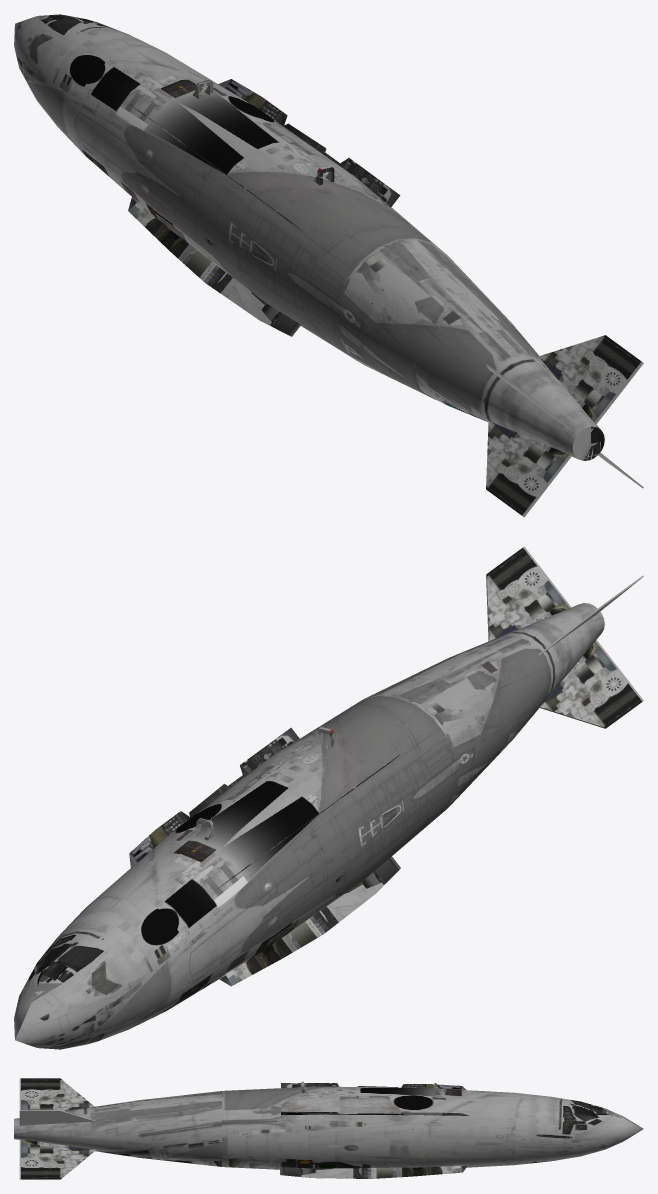
Rendered from JDAM.obj.
The picture shows the model from 3 angles, top to bottom: view 1: azimuth 30°, elevation 25°; view 2: azimuth 150°, elevation 25°; view 3: azimuth 270°, elevation 25°; orthographic projection. The views are drawn at different scales.
Parts seen in each view (by area): view 1: JDAM; view 2: JDAM; view 3: JDAM.
Part boxes in pixels (box(x1,y1,x2,y2)): JDAM: box(14, 14, 643, 517); JDAM: box(14, 546, 643, 1049); JDAM: box(14, 1078, 643, 1179).
Size of the model in its own units: 0.5391 by 0.5888 by 3.97.
